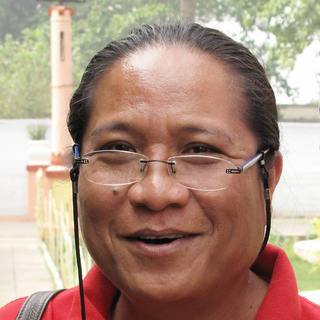eye: (176, 135, 233, 167), (94, 136, 144, 163)
